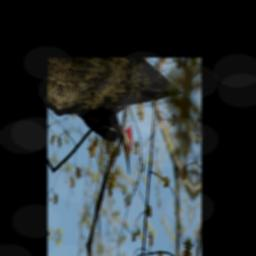Woodpecker: (71, 92, 136, 180)
